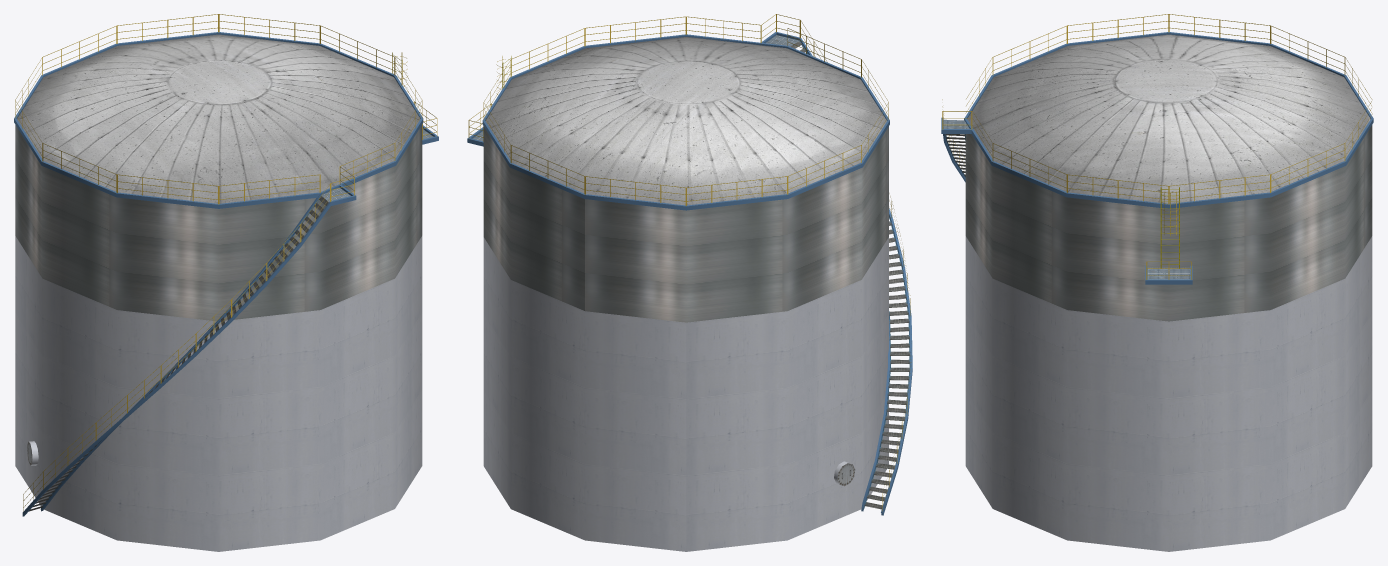
Rendered from Dummy Building 2.FBX.
3 renders of one model, left to right at view 1: azimuth 30°, elevation 25°; view 2: azimuth 150°, elevation 25°; view 3: azimuth 270°, elevation 25°, orthographic.
Parts seen in each view (by area): view 1: Dummy Bulding 2; view 2: Dummy Bulding 2; view 3: Dummy Bulding 2.
Boxes of the visible parts, bbox=[...] form: Dummy Bulding 2: bbox=[14, 14, 438, 551]; Dummy Bulding 2: bbox=[467, 14, 912, 551]; Dummy Bulding 2: bbox=[941, 14, 1373, 551].
Size of the model in its own units: 2075 by 1905 by 1916.
